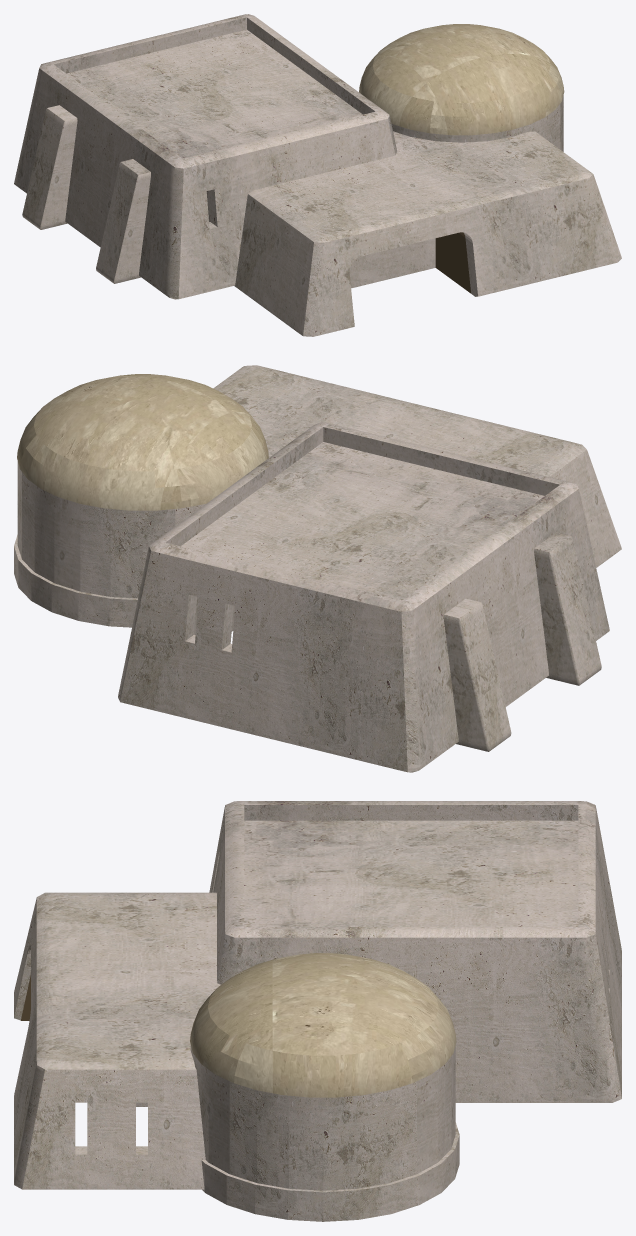
The model's file is mosesly9.fbx.
The picture shows the model from 3 angles, top to bottom: view 1: azimuth 30°, elevation 25°; view 2: azimuth 150°, elevation 25°; view 3: azimuth 270°, elevation 25°; orthographic projection. The views are drawn at different scales.
Visible parts, largest first — view 1: Rectangle3, Rectangle0, Sphere01, Line01, Line02, Rectangle2, Cylinder01, Rectangle1; view 2: Rectangle3, Sphere01, Rectangle0, Cylinder01, Line01, Line02, Cylinder02; view 3: Rectangle3, Rectangle0, Sphere01, Cylinder01, Cylinder02.
Boxes of the visible parts, x1=… form: Rectangle3: x1=14, y1=14, x2=396, y2=299; Rectangle0: x1=206, y1=131, x2=621, y2=336; Sphere01: x1=359, y1=24, x2=564, y2=135; Line01: x1=22, y1=105, x2=77, y2=229; Line02: x1=96, y1=159, x2=150, y2=283; Rectangle2: x1=349, y1=238, x2=435, y2=288; Cylinder01: x1=391, y1=95, x2=563, y2=151; Rectangle1: x1=435, y1=232, x2=475, y2=296; Rectangle3: x1=118, y1=422, x2=609, y2=772; Sphere01: x1=17, y1=374, x2=268, y2=510; Rectangle0: x1=213, y1=365, x2=621, y2=567; Cylinder01: x1=17, y1=461, x2=205, y2=598; Line01: x1=443, y1=598, x2=511, y2=751; Line02: x1=534, y1=532, x2=601, y2=685; Cylinder02: x1=14, y1=535, x2=137, y2=627; Rectangle3: x1=209, y1=801, x2=621, y2=1102; Rectangle0: x1=14, y1=892, x2=220, y2=1189; Sphere01: x1=190, y1=953, x2=456, y2=1097; Cylinder01: x1=190, y1=1045, x2=455, y2=1190; Cylinder02: x1=201, y1=1122, x2=459, y2=1221.
Size of what is drawn, in the model's own units: 4114 by 1282 by 3692.
